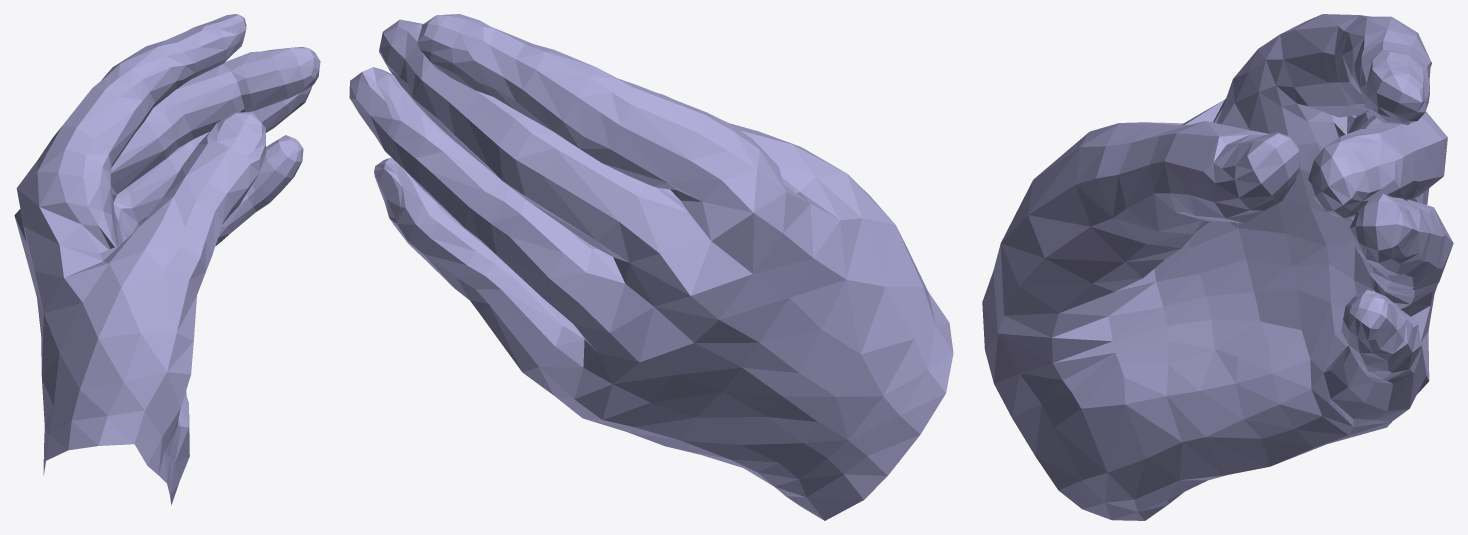
Rendered from frame_0007_source_000007_hand.glb.
3 views of the same model, side by side, from view 1: azimuth 30°, elevation 25°; view 2: azimuth 150°, elevation 25°; view 3: azimuth 270°, elevation 25° (orthographic). The views are drawn at different scales.
Visible parts, largest first — view 1: world; view 2: world; view 3: world.
Boxes of the visible parts, x1=… form: world: x1=14, y1=14, x2=320, y2=505; world: x1=349, y1=14, x2=953, y2=520; world: x1=982, y1=14, x2=1453, y2=520.
Size of the model in its own units: 0.1279 by 0.1329 by 0.0956.
